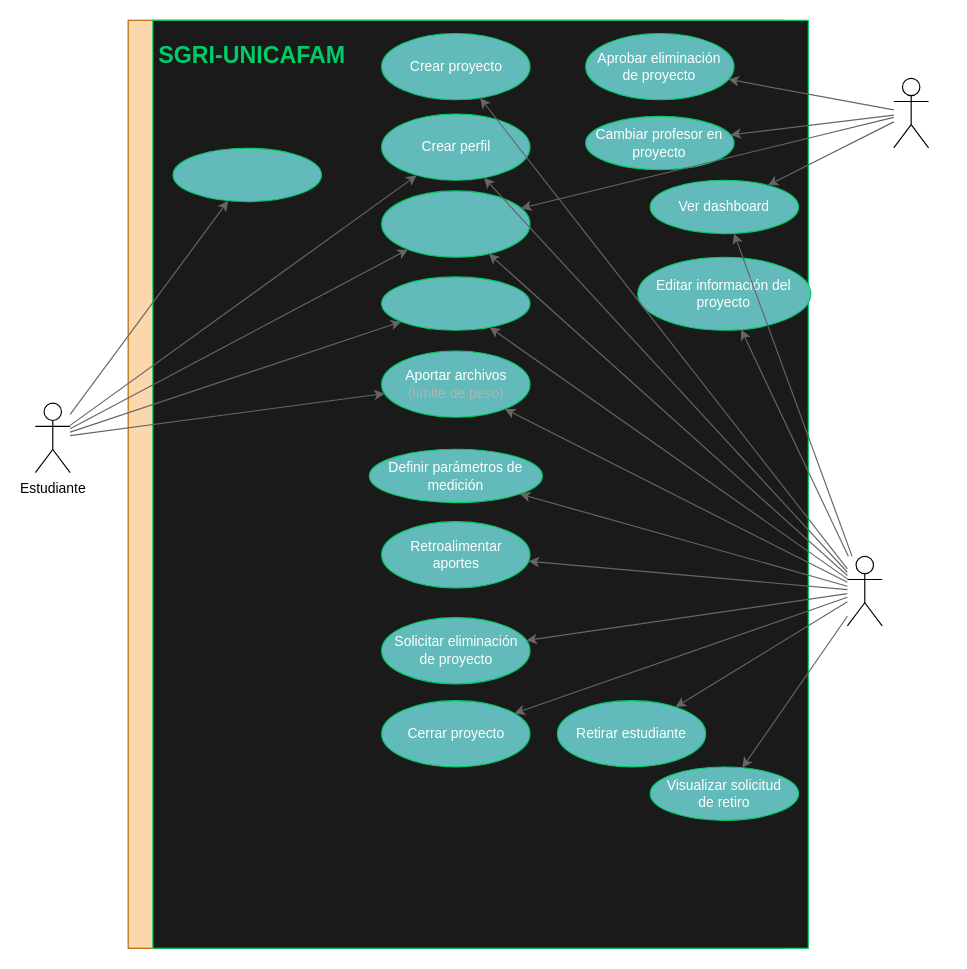
Some shapes in this 967 by 969 pixel diagram are drawn without their labels. Here are the shapes that lost their labels. From the top down, the box of each, then its label:
(893, 77, 929, 148): Admin (estudiantil)
(172, 147, 321, 202): Solicitar retirarse del proyecto
(380, 190, 530, 257): Ver información de proyecto
(380, 276, 530, 330): Ver perfil
(846, 555, 882, 626): Profesor
